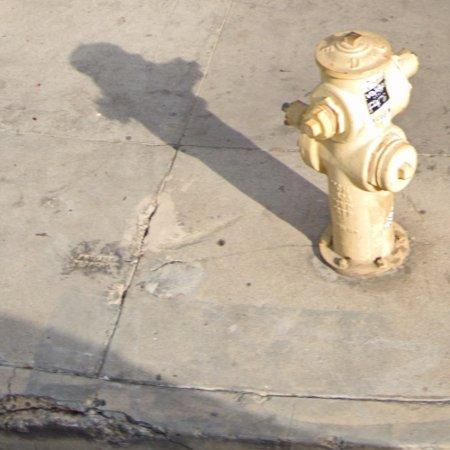a fire hydrant: (283, 31, 420, 276)
